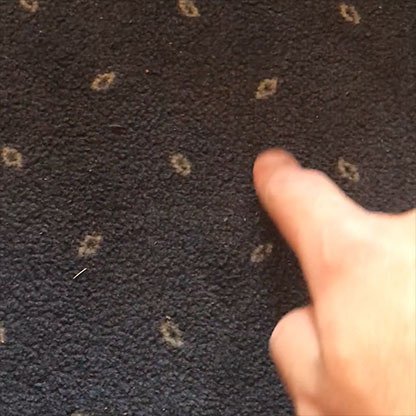fingertip: (248, 143, 297, 176)
